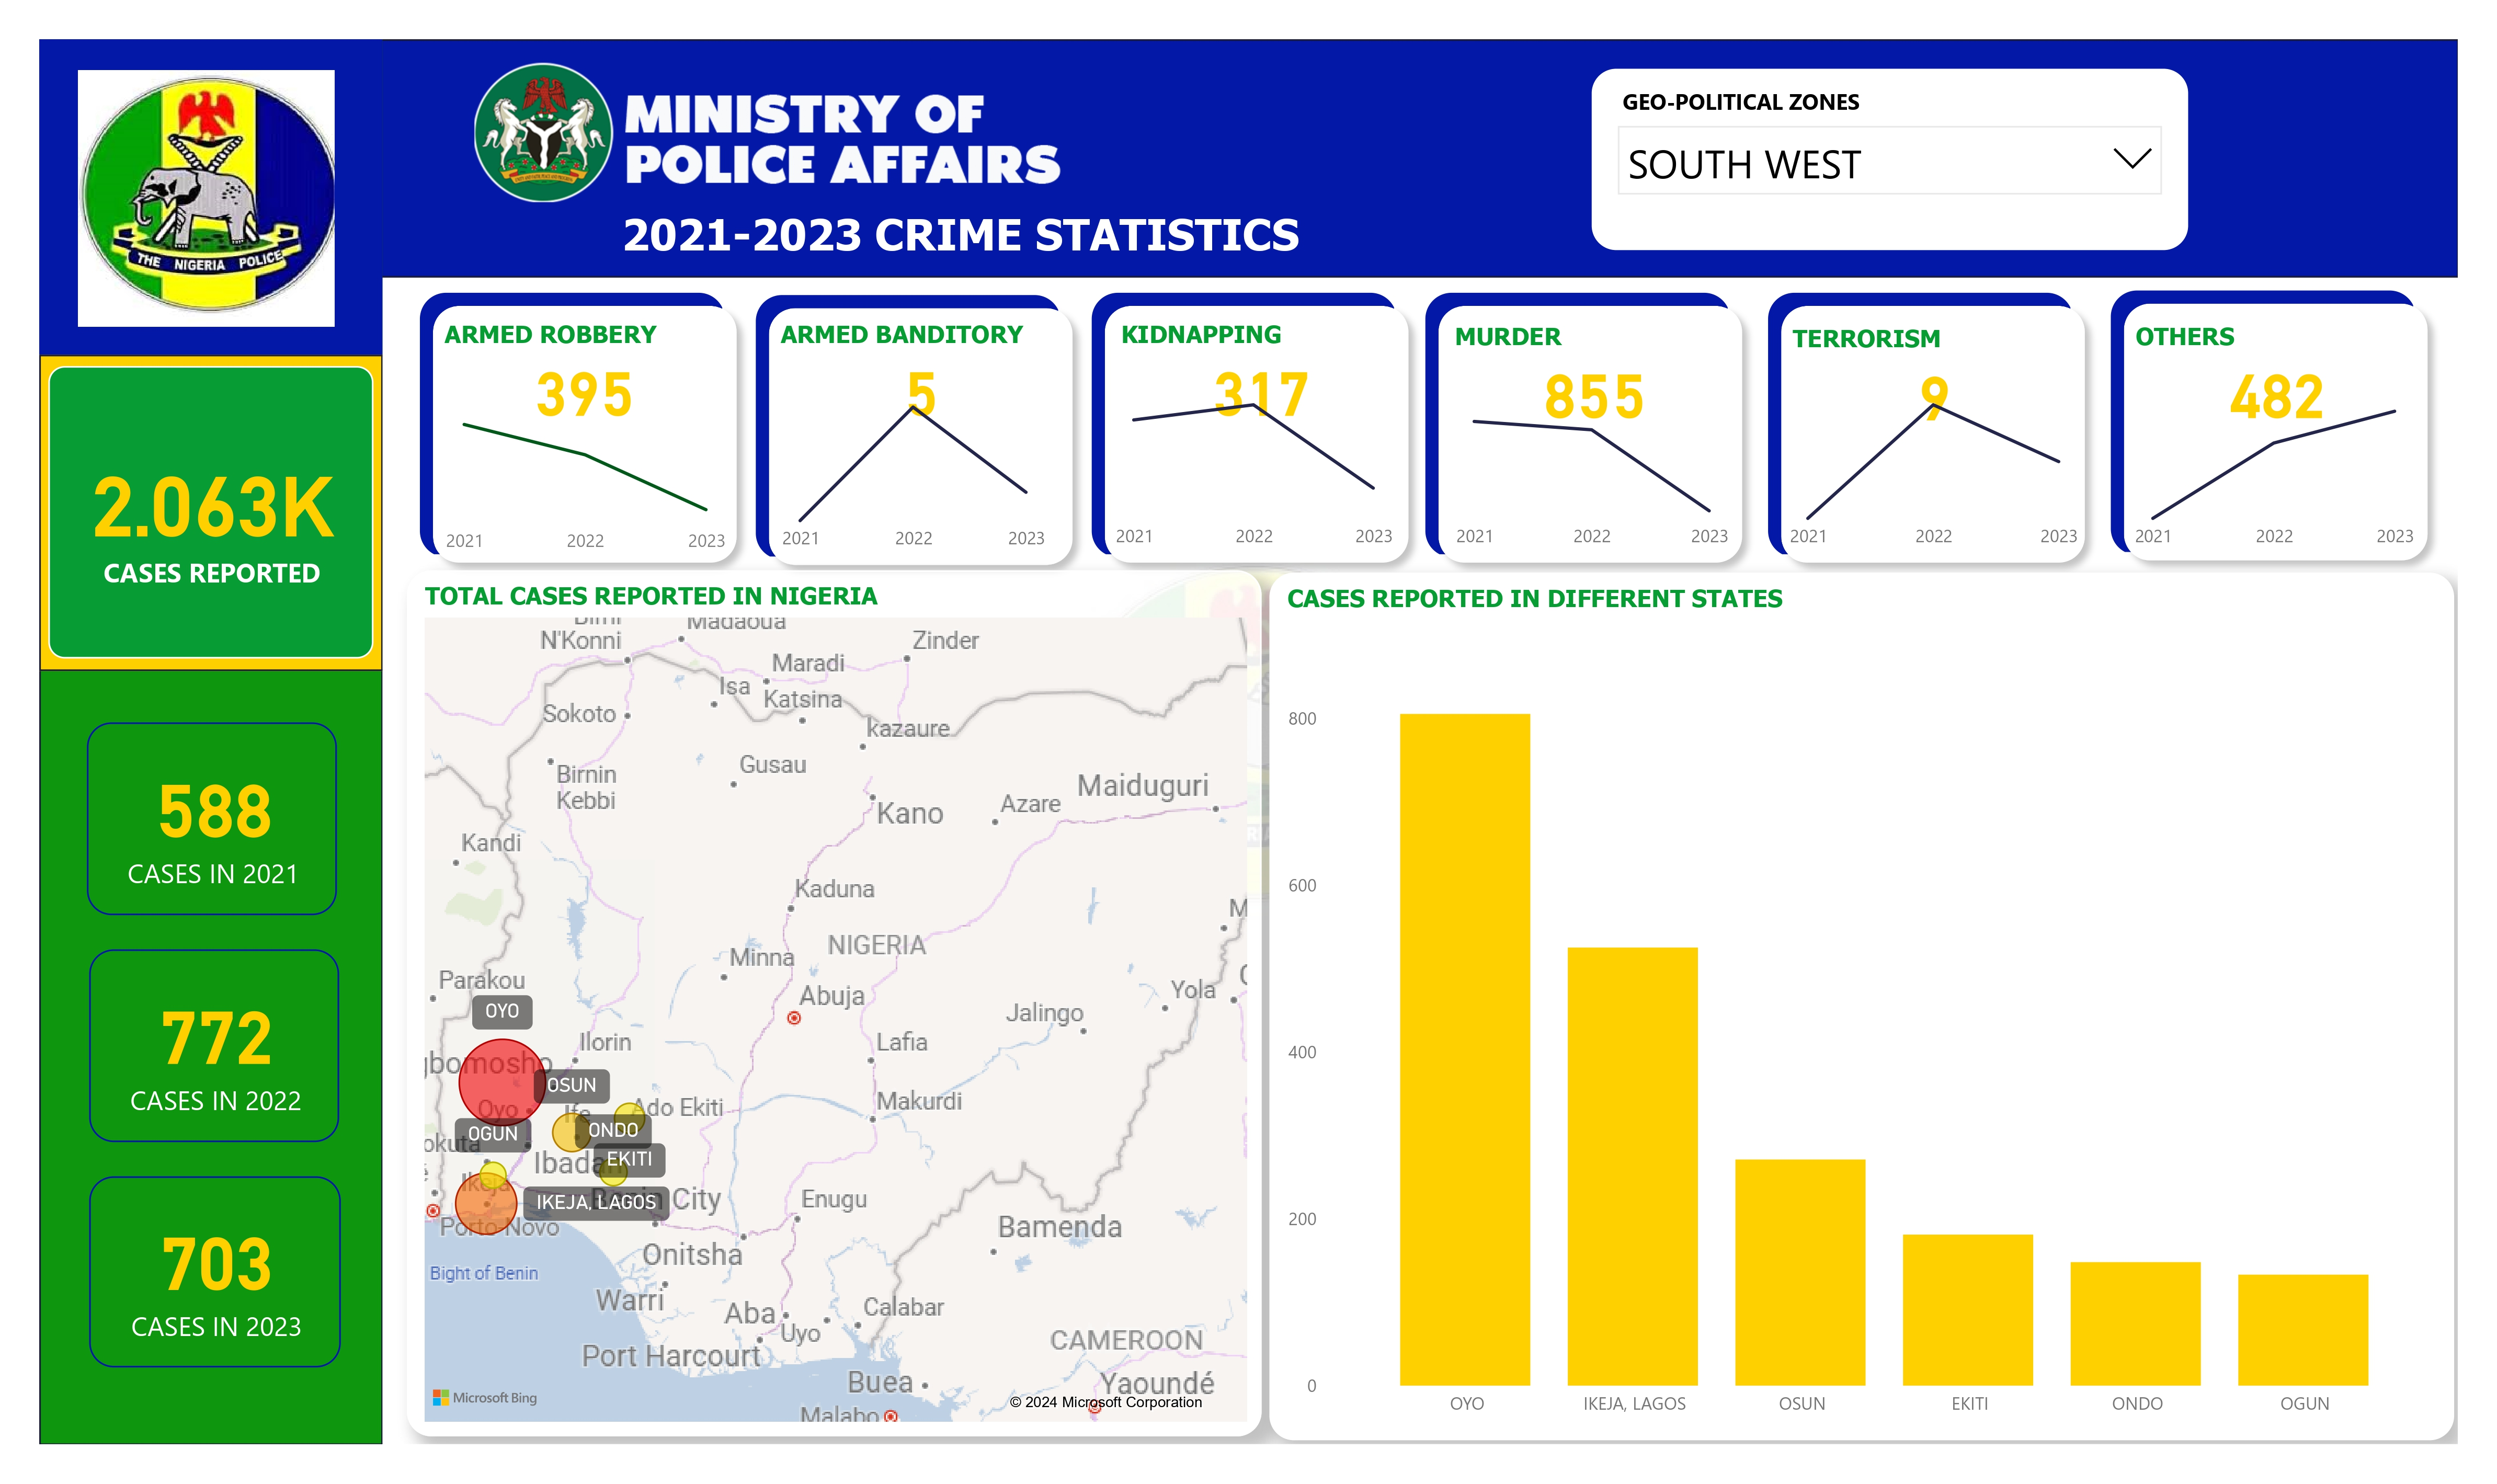

Layout of this report page (visuals, bound fields, positions):
{"tool":"powerbi","page":{"name":"OVERVIEW","canvas":[1480,860],"ordinal":0},"visuals":[{"type":"shape","box":[183.3,0,1297.2,145.8],"z":0},{"type":"shape","box":[1267.1,152.8,186.6,161.8],"z":0,"group":"g5"},{"type":"shape","box":[232.3,153.5,186.6,161.8],"z":0,"group":"g1"},{"type":"shape","box":[643.4,154.2,186.6,161.8],"z":0,"group":"g3"},{"type":"shape","box":[847.6,154.2,186.6,161.8],"z":0,"group":"g4"},{"type":"shape","box":[1056.4,154.4,186.6,161.8],"z":0,"group":"g6"},{"type":"shape","box":[437.8,155.5,186.6,161.8],"z":0,"group":"g2"},{"type":"shape","box":[1267.1,152.8,203.8,175.2],"z":1000,"group":"g5"},{"type":"group","id":"g1","title":"Group 1","box":[232.3,153.5,203.8,175.2],"z":1000},{"type":"shape","box":[232.3,153.5,203.8,175.2],"z":1000,"group":"g1"},{"type":"shape","box":[643.4,154.2,203.8,175.2],"z":1000,"group":"g3"},{"type":"shape","box":[847.6,154.2,203.8,175.2],"z":1000,"group":"g4"},{"type":"shape","box":[1056.4,154.4,203.8,175.2],"z":1000,"group":"g6"},{"type":"shape","box":[437.8,155.5,203.8,175.2],"z":1000,"group":"g2"},{"type":"group","id":"g2","title":"Group 1","box":[437.8,155.5,203.8,175.2],"z":2000},{"type":"group","id":"g3","title":"Group 1","box":[643.4,154.2,203.8,175.2],"z":3000},{"type":"group","id":"g4","title":"Group 1","box":[847.6,154.2,203.8,175.2],"z":4000},{"type":"group","id":"g5","title":"Group 1","box":[1267.1,152.8,204.2,175],"z":5000},{"type":"group","id":"g6","title":"Group 1","box":[1056.4,154.4,204.2,176.4],"z":6000},{"type":"slicer","fields":{"Values":["Crime-Statistics-Summary-Ministry-of-Police-Affairs FOR 3 YEARS.GEO-POLITICAL ZONES","Crime-Statistics-Summary-Ministry-of-Police-Affairs FOR 3 YEARS.STATE"]},"box":[950,18.1,365.3,111.1],"z":7000},{"type":"shape","box":[0,0,210.3,860.3],"z":8000},{"type":"shape","box":[0,0,210.3,193.6],"z":9000},{"type":"map","title":"TOTAL CASES REPORTED IN NIGERIA","fields":{"Category":["Crime-Statistics-Summary-Ministry-of-Police-Affairs FOR 3 YEARS.STATE"],"Size":["Sum(Crime-Statistics-Summary-Ministry-of-Police-Affairs FOR 3 YEARS.TOTAL CASES REPORTED)"]},"box":[224.8,325.5,522.9,529.9],"z":10000},{"type":"card","fields":{"Values":["Sum(Crime-Statistics-Summary-Ministry-of-Police-Affairs FOR 3 YEARS.TOTAL CASES REPORTED)"]},"box":[29.2,418.1,152.8,118.1],"z":11000},{"type":"card","fields":{"Values":["Sum(Crime-Statistics-Summary-Ministry-of-Police-Affairs FOR 3 YEARS.TOTAL CASES REPORTED)"]},"box":[30.8,556.6,153.3,117.8],"z":12000},{"type":"card","fields":{"Values":["Sum(Crime-Statistics-Summary-Ministry-of-Police-Affairs FOR 3 YEARS.TOTAL CASES REPORTED)"]},"box":[30.6,695.8,154.2,116.7],"z":13000},{"type":"shape","box":[3.4,872.4,210.3,206.9],"z":14000},{"type":"shape","box":[0,193.6,210.3,193.6],"z":15000},{"type":"card","title":"ARMED ROBBERY","fields":{"Values":["Sum(Crime-Statistics-Summary-Ministry-of-Police-Affairs FOR 3 YEARS.ARMED ROBBERYCASES (JAN-DEC))"]},"box":[243.1,170.8,181.9,68.1],"z":16000},{"type":"lineChart","fields":{"Y":["Sum(Crime-Statistics-Summary-Ministry-of-Police-Affairs FOR 3 YEARS.ARMED ROBBERYCASES (JAN-DEC))"],"Category":["Crime-Statistics-Summary-Ministry-of-Police-Affairs FOR 3 YEARS.YEAR"]},"box":[243.1,212.5,181.9,112.5],"z":17000},{"type":"card","title":"ARMED BANDITORY","fields":{"Values":["Sum(Crime-Statistics-Summary-Ministry-of-Police-Affairs FOR 3 YEARS.ARMEDBANDITRY OCCCURRENCE (JAN-DEC))"]},"box":[448.6,170.8,181.9,68.1],"z":18000},{"type":"card","title":"KIDNAPPING","fields":{"Values":["Sum(Crime-Statistics-Summary-Ministry-of-Police-Affairs FOR 3 YEARS.KIDNAPPINGCASES (JAN-DEC))"]},"box":[656.9,170.8,181.9,68.1],"z":19000},{"type":"card","title":"MURDER","fields":{"Values":["Sum(Crime-Statistics-Summary-Ministry-of-Police-Affairs FOR 3 YEARS.MURDERCASES (JAN-DEC))"]},"box":[861.1,172.2,181.9,68.1],"z":20000},{"type":"card","title":"TERRORISM","fields":{"Values":["Sum(Crime-Statistics-Summary-Ministry-of-Police-Affairs FOR 3 YEARS.TERRORRISM/SECESSIONISTSATTACK (JAN-DEC))"]},"box":[1068.1,173.6,183.3,68.1],"z":21000},{"type":"card","title":"OTHERS","fields":{"Values":["Sum(Crime-Statistics-Summary-Ministry-of-Police-Affairs FOR 3 YEARS.OTHERS (JAN-DEC))"]},"box":[1277.8,172.2,183.3,68.1],"z":22000},{"type":"lineChart","fields":{"Y":["Sum(Crime-Statistics-Summary-Ministry-of-Police-Affairs FOR 3 YEARS.ARMEDBANDITRY OCCCURRENCE (JAN-DEC))"],"Category":["Crime-Statistics-Summary-Ministry-of-Police-Affairs FOR 3 YEARS.YEAR"]},"box":[448.6,211.1,172.2,112.5],"z":23000},{"type":"lineChart","fields":{"Y":["Sum(Crime-Statistics-Summary-Ministry-of-Police-Affairs FOR 3 YEARS.KIDNAPPINGCASES (JAN-DEC))"],"Category":["Crime-Statistics-Summary-Ministry-of-Police-Affairs FOR 3 YEARS.YEAR"]},"box":[652.8,209.7,180.6,112.5],"z":24000},{"type":"lineChart","fields":{"Y":["Sum(Crime-Statistics-Summary-Ministry-of-Police-Affairs FOR 3 YEARS.MURDERCASES (JAN-DEC))"],"Category":["Crime-Statistics-Summary-Ministry-of-Police-Affairs FOR 3 YEARS.YEAR"]},"box":[861.1,209.7,177.8,112.5],"z":25000},{"type":"lineChart","fields":{"Y":["Sum(Crime-Statistics-Summary-Ministry-of-Police-Affairs FOR 3 YEARS.TERRORRISM/SECESSIONISTSATTACK (JAN-DEC))"],"Category":["Crime-Statistics-Summary-Ministry-of-Police-Affairs FOR 3 YEARS.YEAR"]},"box":[1065.3,209.7,187.5,112.5],"z":26000},{"type":"lineChart","fields":{"Y":["Sum(Crime-Statistics-Summary-Ministry-of-Police-Affairs FOR 3 YEARS.OTHERS (JAN-DEC))"],"Category":["Crime-Statistics-Summary-Ministry-of-Police-Affairs FOR 3 YEARS.YEAR"]},"box":[1276.4,209.7,181.9,112.5],"z":27000},{"type":"image","box":[176.4,0,540.3,109.7],"z":28000},{"type":"textbox","box":[351.4,97.2,465.3,48.6],"z":29000},{"type":"image","box":[2.8,13.9,198.6,166.7],"z":30000},{"type":"card","fields":{"Values":["Sum(Crime-Statistics-Summary-Ministry-of-Police-Affairs FOR 3 YEARS.TOTAL CASES REPORTED)"]},"box":[5.6,200,198.6,179.2],"z":31000},{"type":"clusteredColumnChart","title":"CASES REPORTED IN DIFFERENT STATES","fields":{"Category":["Crime-Statistics-Summary-Ministry-of-Police-Affairs FOR 3 YEARS.STATE"],"Y":["Sum(Crime-Statistics-Summary-Ministry-of-Police-Affairs FOR 3 YEARS.TOTAL CASES REPORTED)"]},"box":[752.8,326.4,725,530.6],"z":32000}]}

Visuals, with their boxes in screenshot pixels (x1, y1, x2, y2):
shape: (left=331, top=32, right=2489, bottom=275)
shape: (left=2134, top=287, right=2445, bottom=556)
shape: (left=413, top=288, right=723, bottom=557)
shape: (left=1097, top=289, right=1407, bottom=558)
shape: (left=1436, top=289, right=1747, bottom=558)
shape: (left=1784, top=289, right=2094, bottom=558)
shape: (left=755, top=291, right=1065, bottom=561)
shape: (left=2134, top=287, right=2473, bottom=578)
"Group 1" group: (left=413, top=288, right=751, bottom=579)
shape: (left=413, top=288, right=751, bottom=579)
shape: (left=1097, top=289, right=1435, bottom=580)
shape: (left=1436, top=289, right=1775, bottom=580)
shape: (left=1784, top=289, right=2123, bottom=581)
shape: (left=755, top=291, right=1093, bottom=583)
"Group 1" group: (left=755, top=291, right=1093, bottom=583)
"Group 1" group: (left=1097, top=289, right=1435, bottom=580)
"Group 1" group: (left=1436, top=289, right=1775, bottom=580)
"Group 1" group: (left=2134, top=287, right=2474, bottom=578)
"Group 1" group: (left=1784, top=289, right=2124, bottom=583)
slicer - Crime-Statistics-Summary-Ministry-of-Police-Affairs FOR 3 YEARS.GEO-POLITICAL ZONES x Crime-Statistics-Summary-Ministry-of-Police-Affairs FOR 3 YEARS.STATE: (left=1606, top=63, right=2215, bottom=247)
shape: (left=26, top=32, right=376, bottom=1464)
shape: (left=26, top=32, right=376, bottom=355)
"TOTAL CASES REPORTED IN NIGERIA" map: (left=400, top=574, right=1270, bottom=1456)
card - Sum(Crime-Statistics-Summary-Ministry-of-Police-Affairs FOR 3 YEARS.TOTAL CASES REPORTED): (left=75, top=728, right=329, bottom=924)
card - Sum(Crime-Statistics-Summary-Ministry-of-Police-Affairs FOR 3 YEARS.TOTAL CASES REPORTED): (left=77, top=958, right=333, bottom=1155)
card - Sum(Crime-Statistics-Summary-Ministry-of-Police-Affairs FOR 3 YEARS.TOTAL CASES REPORTED): (left=77, top=1190, right=334, bottom=1384)
shape: (left=26, top=355, right=376, bottom=677)
"ARMED ROBBERY" card: (left=430, top=317, right=733, bottom=430)
lineChart - Sum(Crime-Statistics-Summary-Ministry-of-Police-Affairs FOR 3 YEARS.ARMED ROBBERYCASES (JAN-DEC)) x Crime-Statistics-Summary-Ministry-of-Police-Affairs FOR 3 YEARS.YEAR: (left=430, top=386, right=733, bottom=573)
"ARMED BANDITORY" card: (left=772, top=317, right=1075, bottom=430)
"KIDNAPPING" card: (left=1119, top=317, right=1422, bottom=430)
"MURDER" card: (left=1459, top=319, right=1761, bottom=432)
"TERRORISM" card: (left=1803, top=322, right=2108, bottom=435)
"OTHERS" card: (left=2152, top=319, right=2457, bottom=432)
lineChart - Sum(Crime-Statistics-Summary-Ministry-of-Police-Affairs FOR 3 YEARS.ARMEDBANDITRY OCCCURRENCE (JAN-DEC)) x Crime-Statistics-Summary-Ministry-of-Police-Affairs FOR 3 YEARS.YEAR: (left=772, top=384, right=1059, bottom=571)
lineChart - Sum(Crime-Statistics-Summary-Ministry-of-Police-Affairs FOR 3 YEARS.KIDNAPPINGCASES (JAN-DEC)) x Crime-Statistics-Summary-Ministry-of-Police-Affairs FOR 3 YEARS.YEAR: (left=1112, top=381, right=1412, bottom=568)
lineChart - Sum(Crime-Statistics-Summary-Ministry-of-Police-Affairs FOR 3 YEARS.MURDERCASES (JAN-DEC)) x Crime-Statistics-Summary-Ministry-of-Police-Affairs FOR 3 YEARS.YEAR: (left=1459, top=381, right=1754, bottom=568)
lineChart - Sum(Crime-Statistics-Summary-Ministry-of-Police-Affairs FOR 3 YEARS.TERRORRISM/SECESSIONISTSATTACK (JAN-DEC)) x Crime-Statistics-Summary-Ministry-of-Police-Affairs FOR 3 YEARS.YEAR: (left=1798, top=381, right=2111, bottom=568)
lineChart - Sum(Crime-Statistics-Summary-Ministry-of-Police-Affairs FOR 3 YEARS.OTHERS (JAN-DEC)) x Crime-Statistics-Summary-Ministry-of-Police-Affairs FOR 3 YEARS.YEAR: (left=2150, top=381, right=2453, bottom=568)
image: (left=320, top=32, right=1218, bottom=215)
textbox: (left=611, top=194, right=1385, bottom=275)
image: (left=31, top=55, right=361, bottom=333)
card - Sum(Crime-Statistics-Summary-Ministry-of-Police-Affairs FOR 3 YEARS.TOTAL CASES REPORTED): (left=36, top=366, right=366, bottom=664)
"CASES REPORTED IN DIFFERENT STATES" clusteredColumnChart: (left=1279, top=576, right=2485, bottom=1458)
